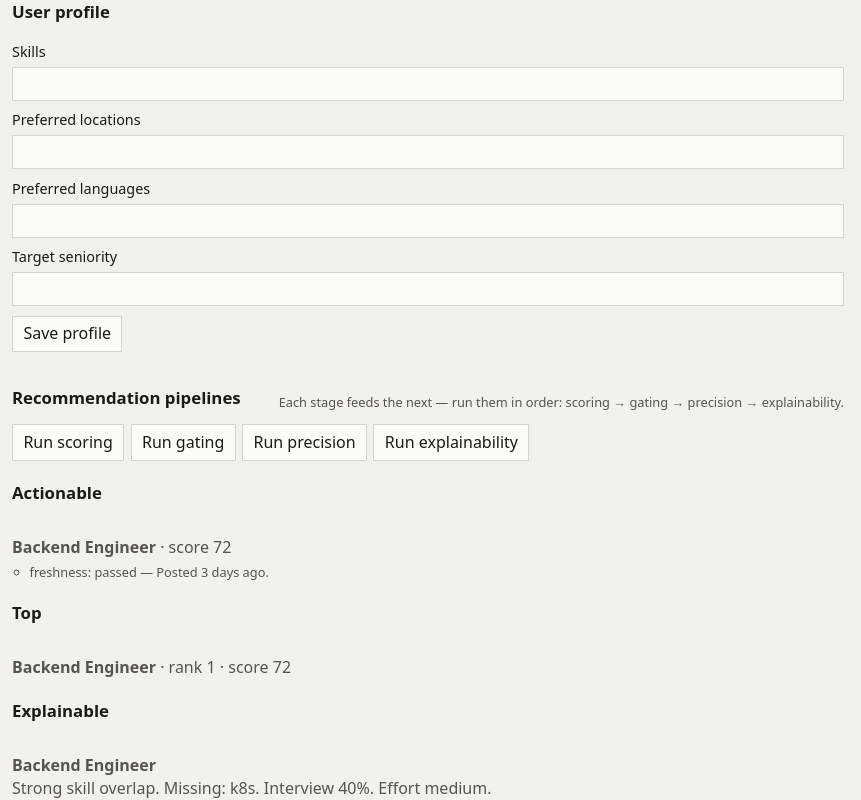
Test: OpportunitiesPage › sends X-Correlation-Id when running scoring and renders rec lists
The image size is (861, 800).
(page scrolled)
expect the text "Strong skill overlap" is shown: met, box [12,777,160,799]
expect the list item "freshness: passed — Posted 3 days ago." is shown: met, box [30,563,269,581]
Click the button "Run scoring": coordinates (68, 443) [12,424,124,461]
(page scrolled)
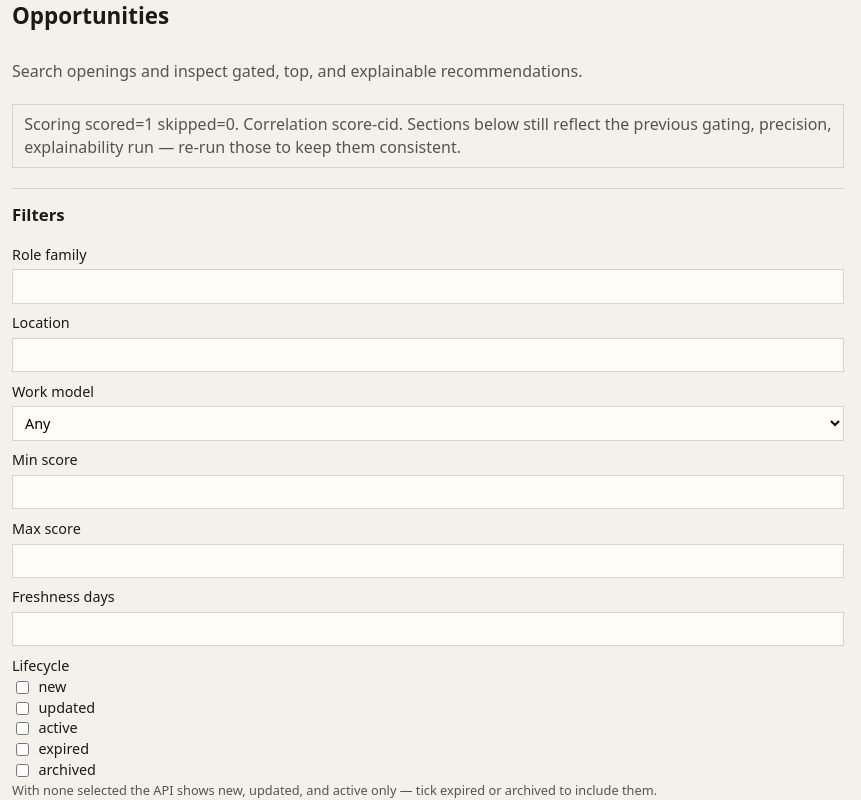
expect the text "Correlation score-cid" is shown: met, box [24,113,832,158]
